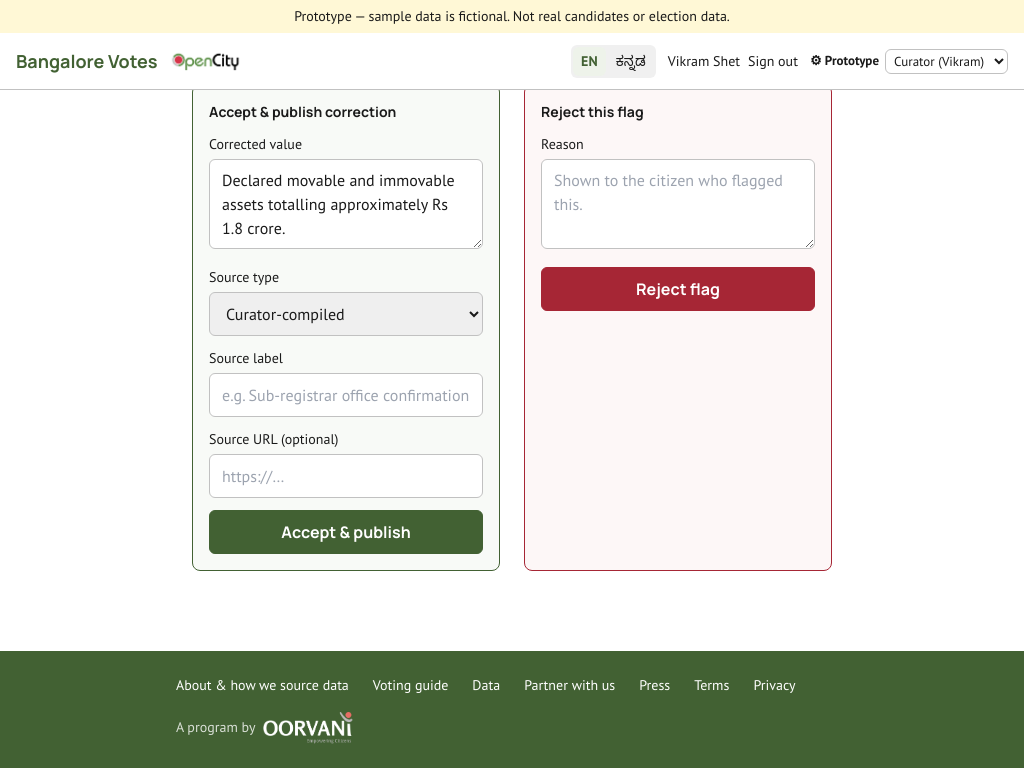
Test case: accept is refused without a source label (mandatory provenance)
(page scrolled)
What coordinates should you click on to do the following:
click the button "Accept & publish"
I would click on:
 (346, 532)
Its box is [209,510,483,554].
(page scrolled)
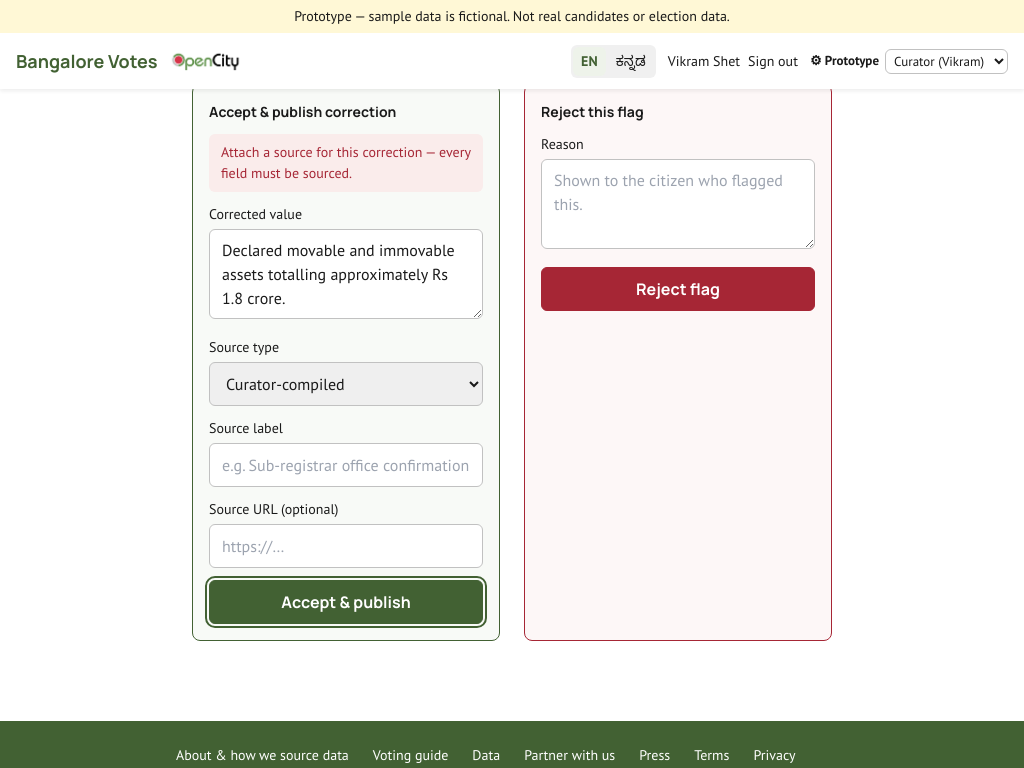
Check: the message shows "source", box [221,143,471,182]
